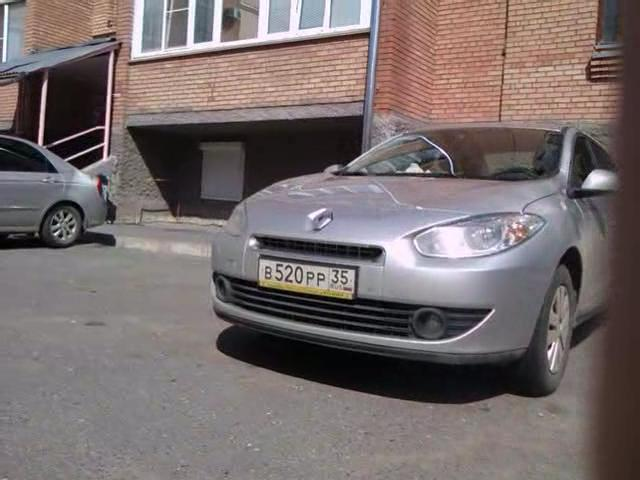car license plate: (257, 256, 359, 297)
